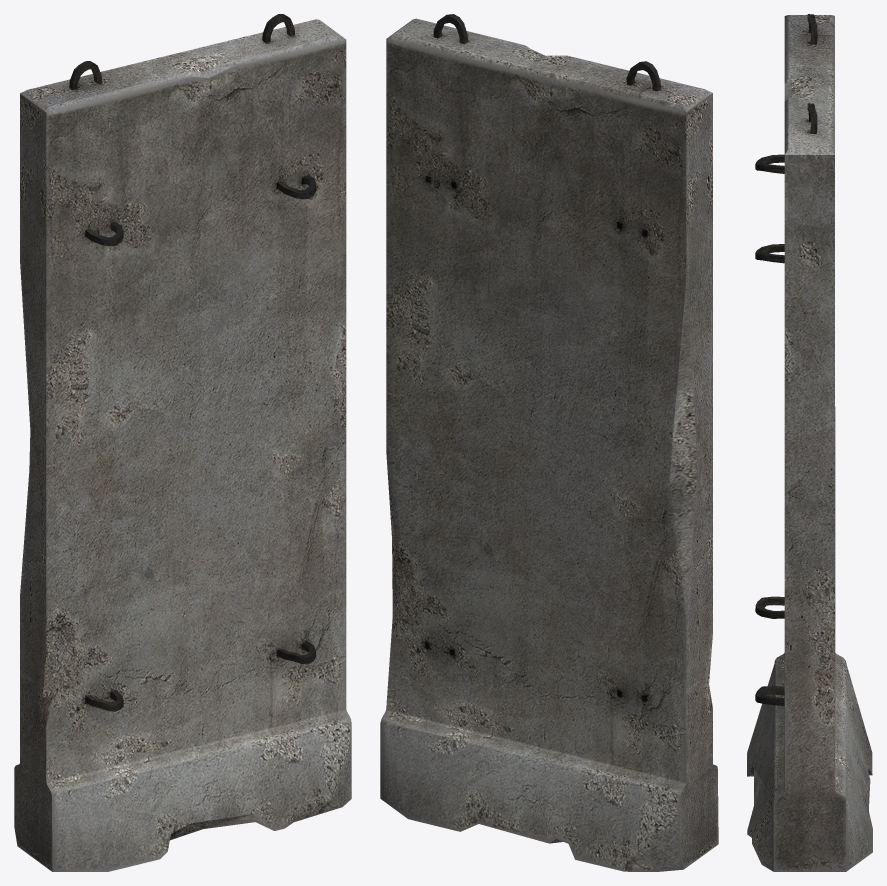
The model's file is MauerEinfach.dae.
3 views of the same model, side by side, from view 1: azimuth 30°, elevation 25°; view 2: azimuth 150°, elevation 25°; view 3: azimuth 270°, elevation 25° (orthographic). The views are drawn at different scales.
Parts seen in each view (by area): view 1: DrawCall_0; view 2: DrawCall_0; view 3: DrawCall_0.
Part boxes in pixels (x1,y1,x2,y2): DrawCall_0: [14, 14, 351, 871]; DrawCall_0: [380, 14, 718, 871]; DrawCall_0: [747, 14, 872, 871].
Size of the model in its own units: 40.22 by 100 by 15.34.
1 material, 1 textured.
